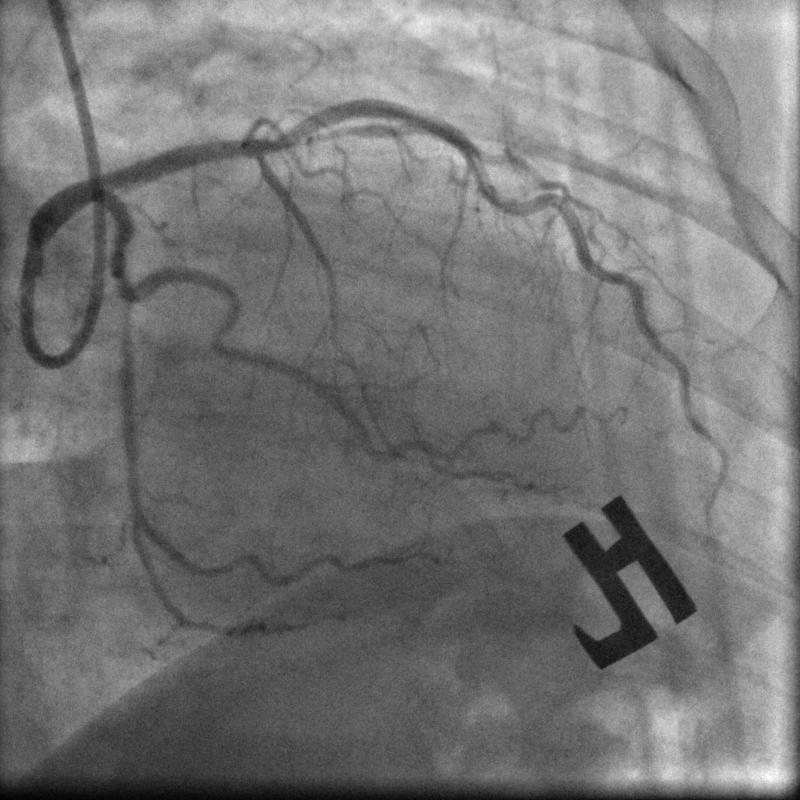Stenosis: (112, 242, 141, 302)
